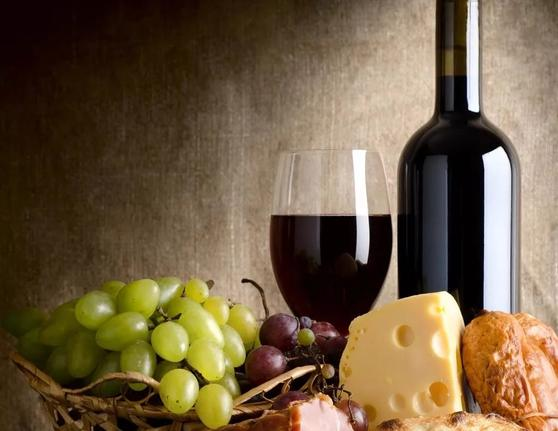cheese: (327, 291, 471, 424)
